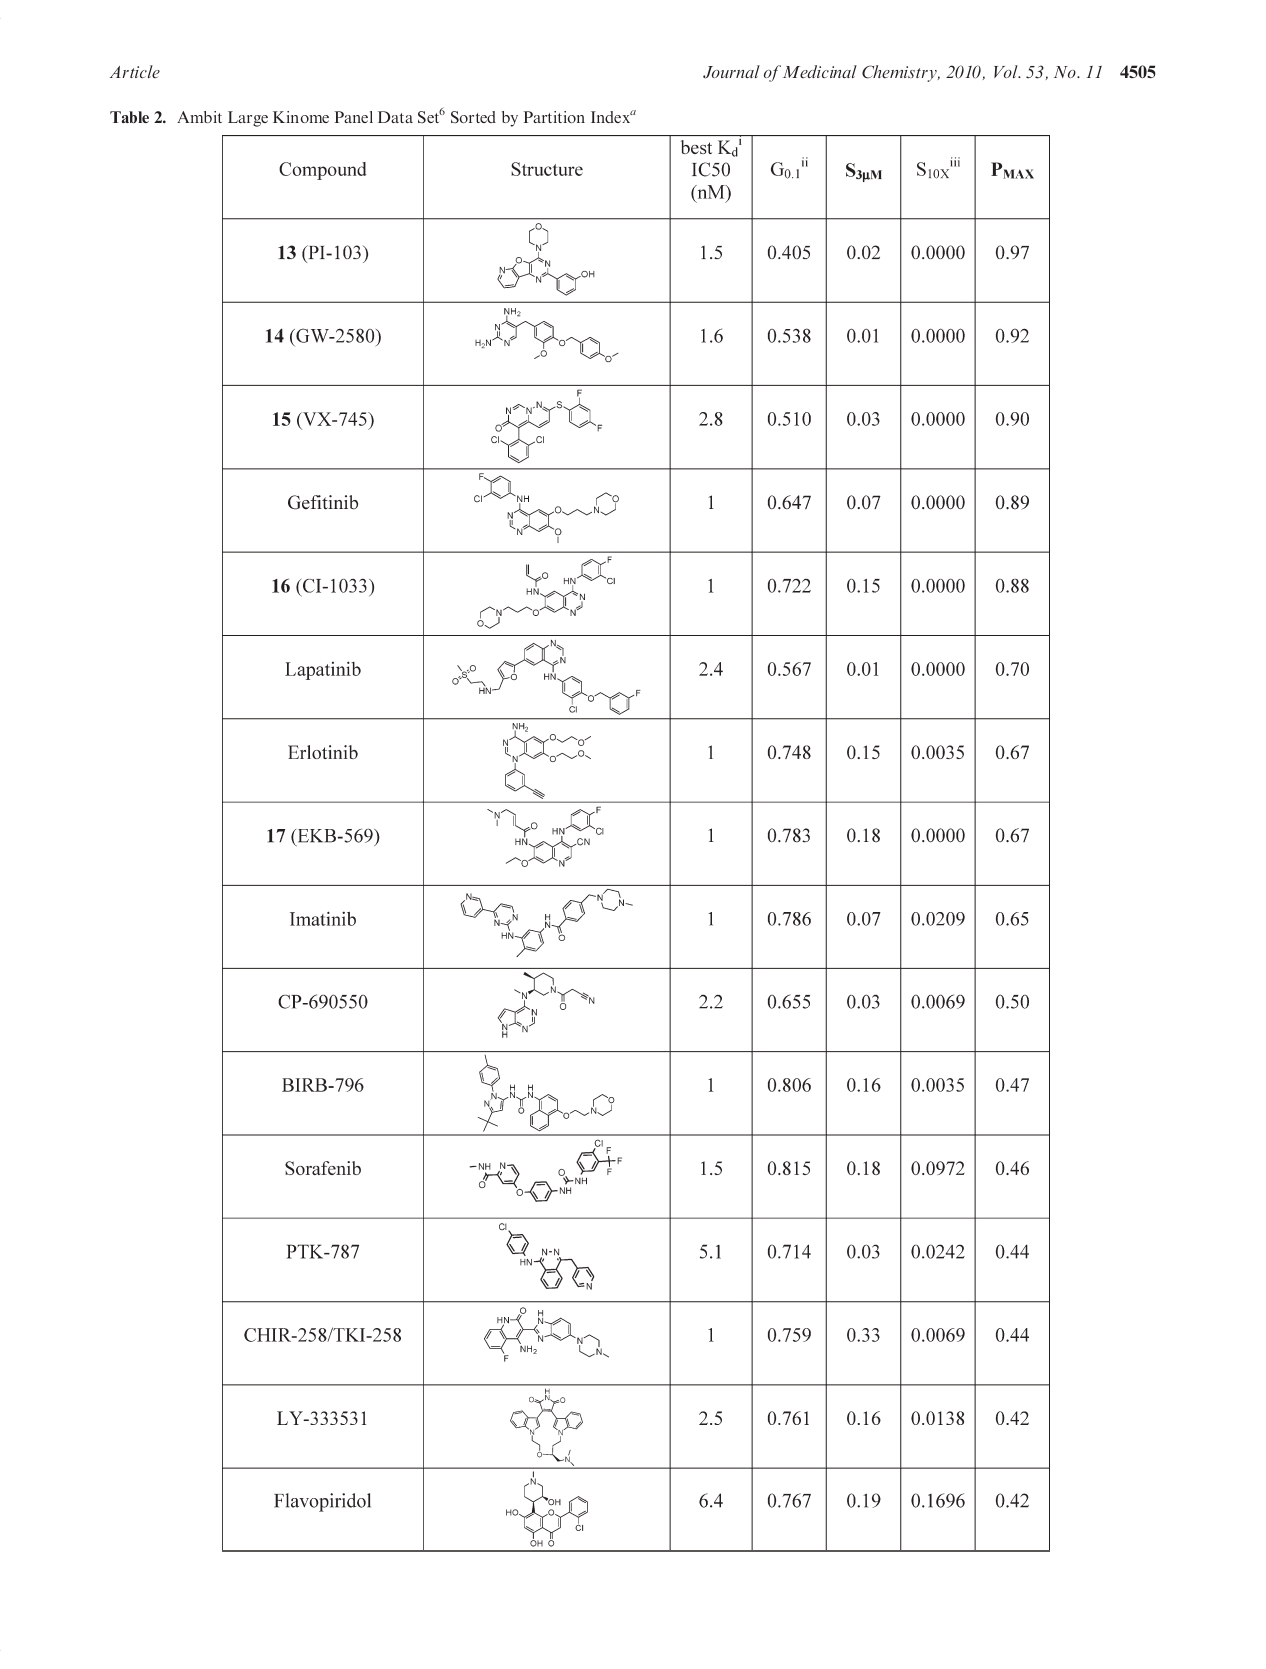exist_molecular: (449, 638, 642, 717), (459, 888, 633, 958), (477, 1053, 616, 1133), (473, 555, 618, 630), (471, 472, 617, 543), (469, 1138, 622, 1204), (471, 306, 618, 364), (489, 388, 604, 461), (493, 221, 601, 295), (485, 805, 606, 868), (483, 1305, 610, 1363), (497, 1221, 597, 1293), (497, 971, 596, 1039), (504, 1470, 589, 1547), (511, 1388, 586, 1466)
